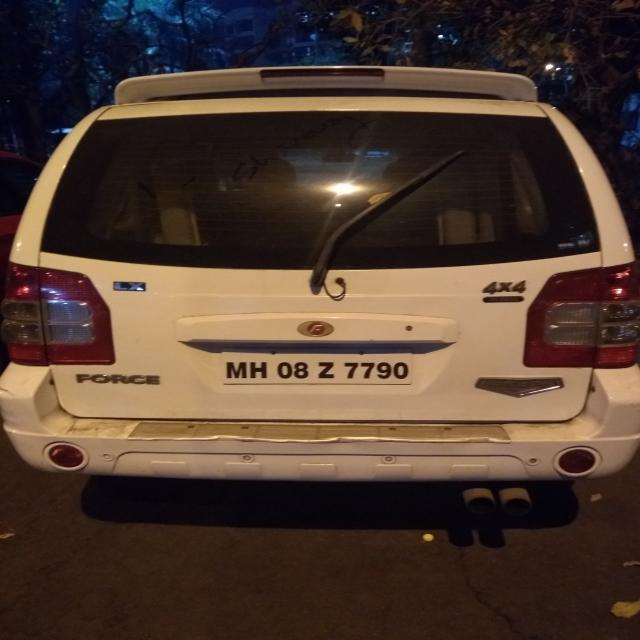Number-Plate: (219, 350, 425, 388)
